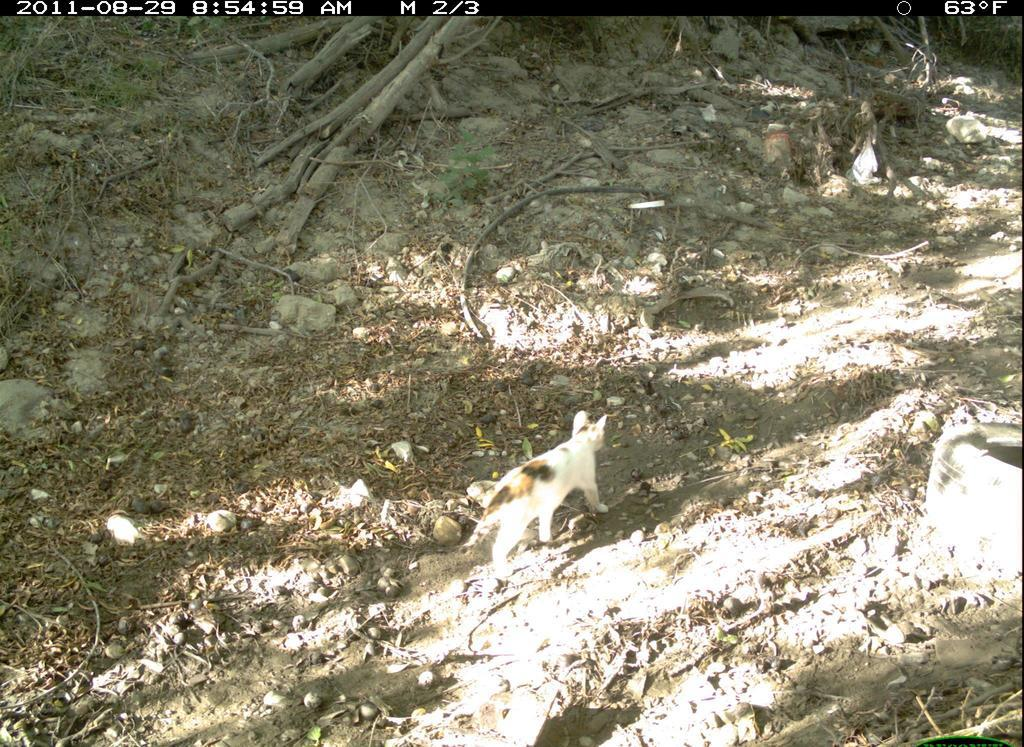cat: (459, 408, 616, 583)
